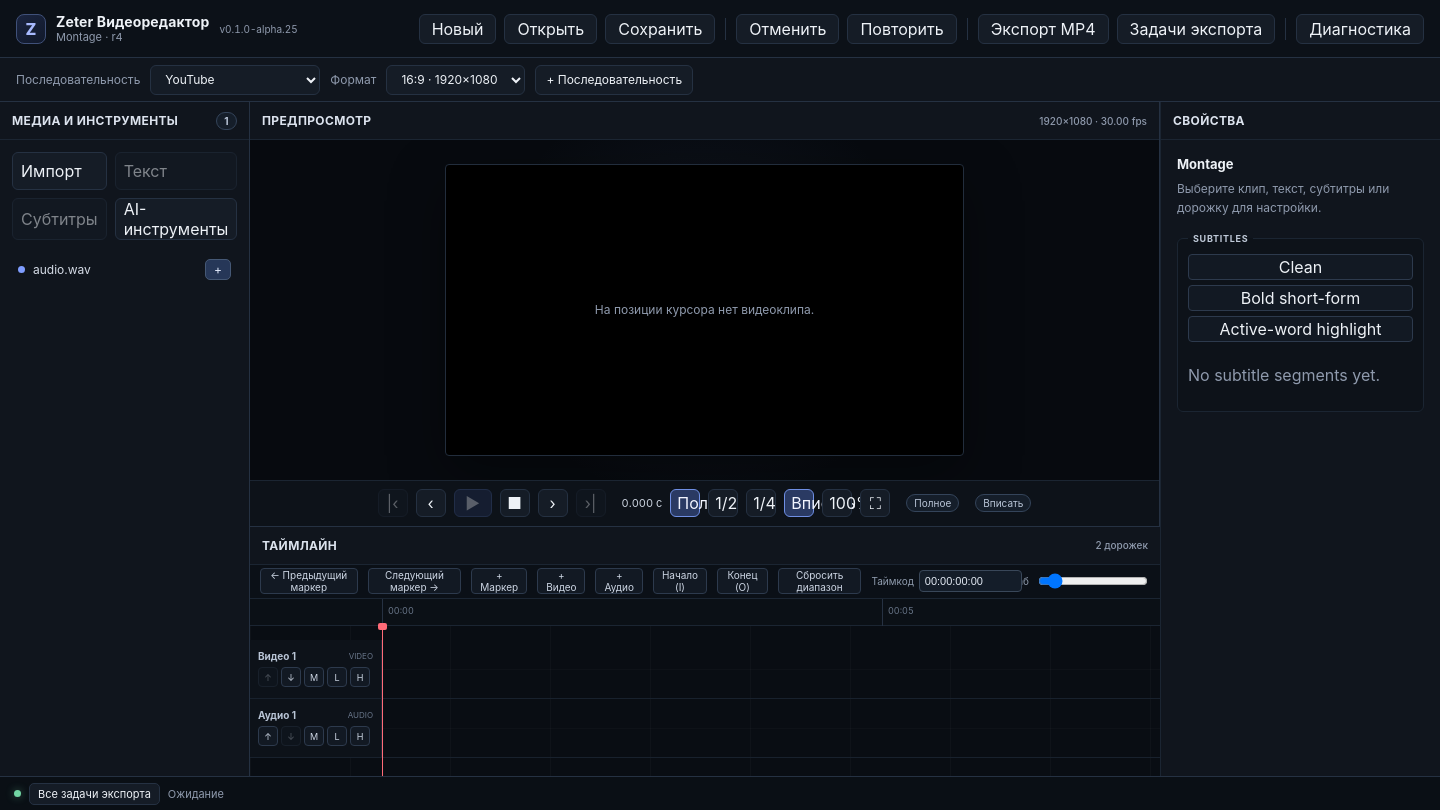
Test: multi-sequence editor › keeps Preview and Timeline sibling identities distinct through hydration and switching
Select "Short 01" in the dropdown labelled "Последовательность": coordinates (235, 80) [150,64,320,94]
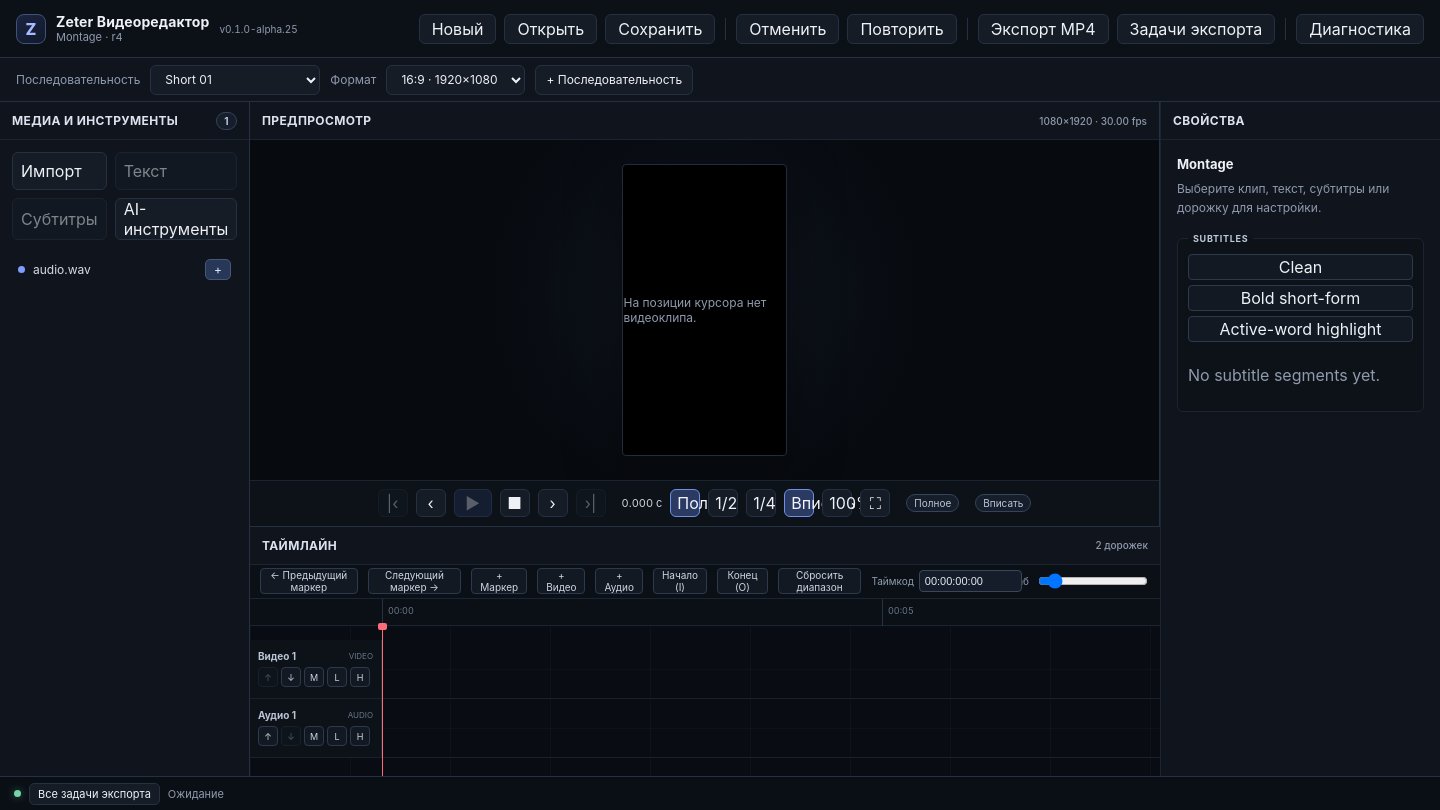
Expected: the element with test id "timeline-panel" is shown, [250,527,1160,776]
Expected: the element with test id "preview-panel" shows "1080×1920", [250,102,1160,527]
